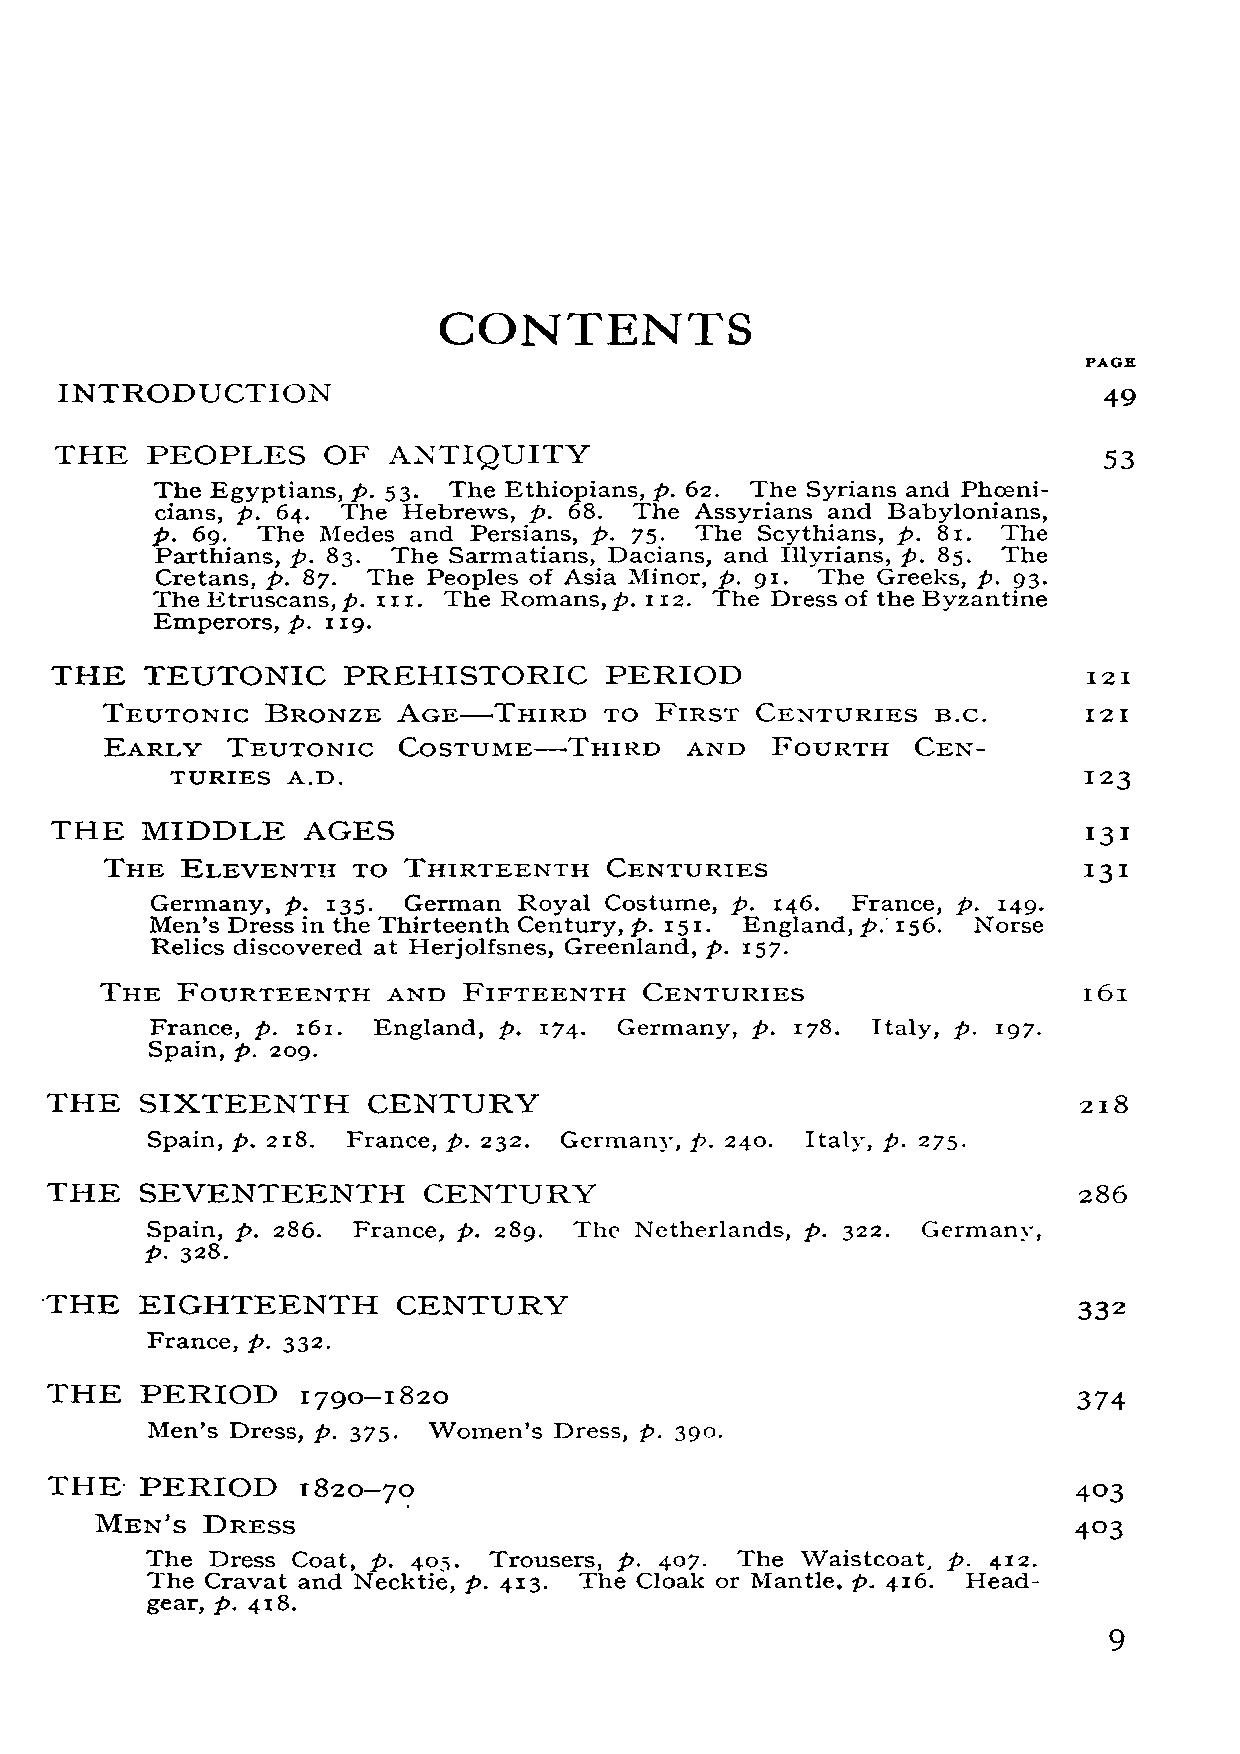TOC_chapter: (146, 472, 1053, 637), (148, 887, 1048, 968), (140, 1545, 1043, 1620), (101, 733, 994, 790), (140, 1013, 1051, 1067), (134, 1215, 1049, 1264), (136, 1121, 970, 1154), (101, 699, 992, 727), (97, 974, 811, 1007), (42, 662, 743, 688), (103, 852, 773, 879), (42, 1176, 599, 1208), (52, 435, 601, 466), (137, 1414, 723, 1443), (42, 1087, 565, 1117), (42, 1288, 574, 1317), (46, 1469, 415, 1506), (42, 1380, 454, 1410), (46, 811, 400, 843), (50, 378, 346, 407), (85, 1510, 298, 1538), (144, 1326, 327, 1355)
TOC_pagenumber: (1078, 1176, 1130, 1208), (1078, 1384, 1127, 1416), (1074, 1515, 1125, 1545), (1078, 819, 1133, 845), (1078, 976, 1131, 1002), (1078, 1090, 1131, 1117), (1078, 768, 1137, 790), (1074, 1480, 1125, 1504), (1080, 705, 1131, 727), (1076, 1298, 1126, 1321), (1083, 860, 1134, 882), (1079, 666, 1134, 684), (1102, 450, 1138, 474), (1102, 385, 1139, 407)
chapter: (432, 301, 760, 349)
